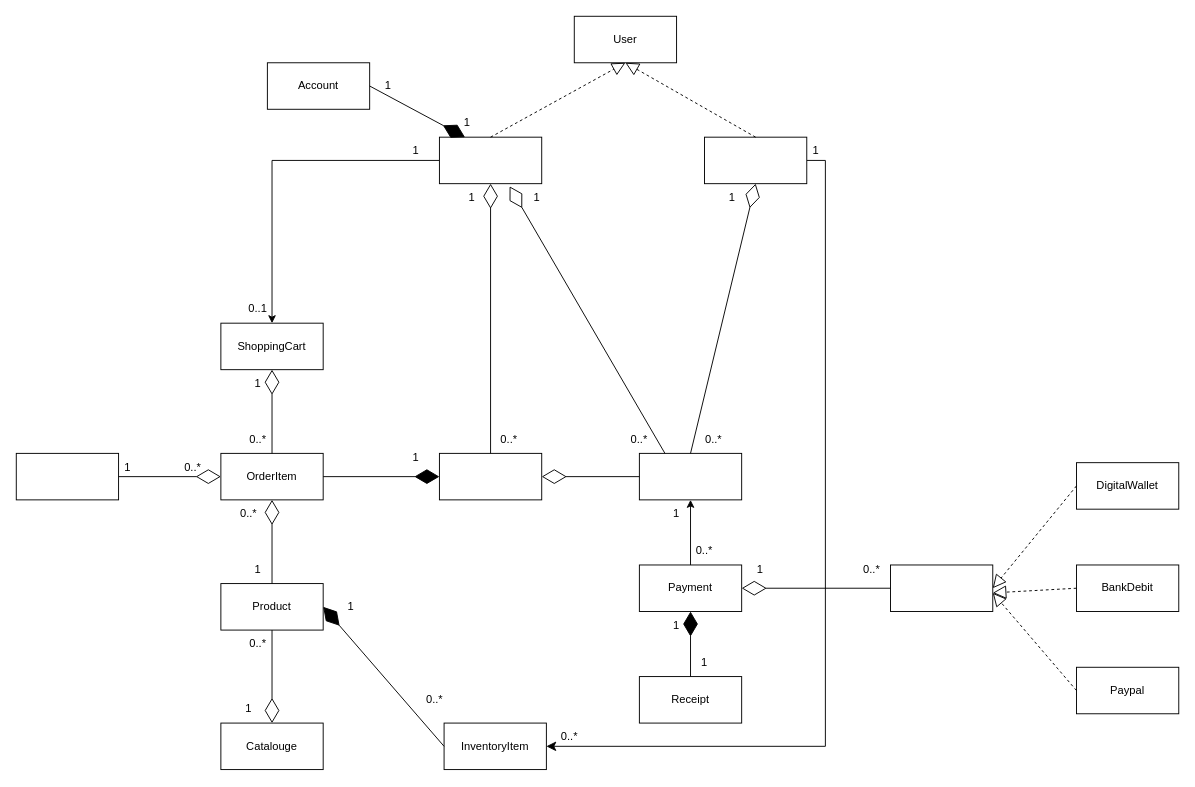
This 1195x787 diagram has some shape labels left out. The box of each missing label's shape, as (x1, y1, x2, y2) in pixels:
Admin: (704, 136, 807, 184)
Customer: (438, 136, 542, 184)
Invoice: (638, 452, 742, 500)
Order: (438, 452, 542, 500)
PaymentMethod: (890, 564, 993, 611)
Shipment: (15, 452, 119, 500)
